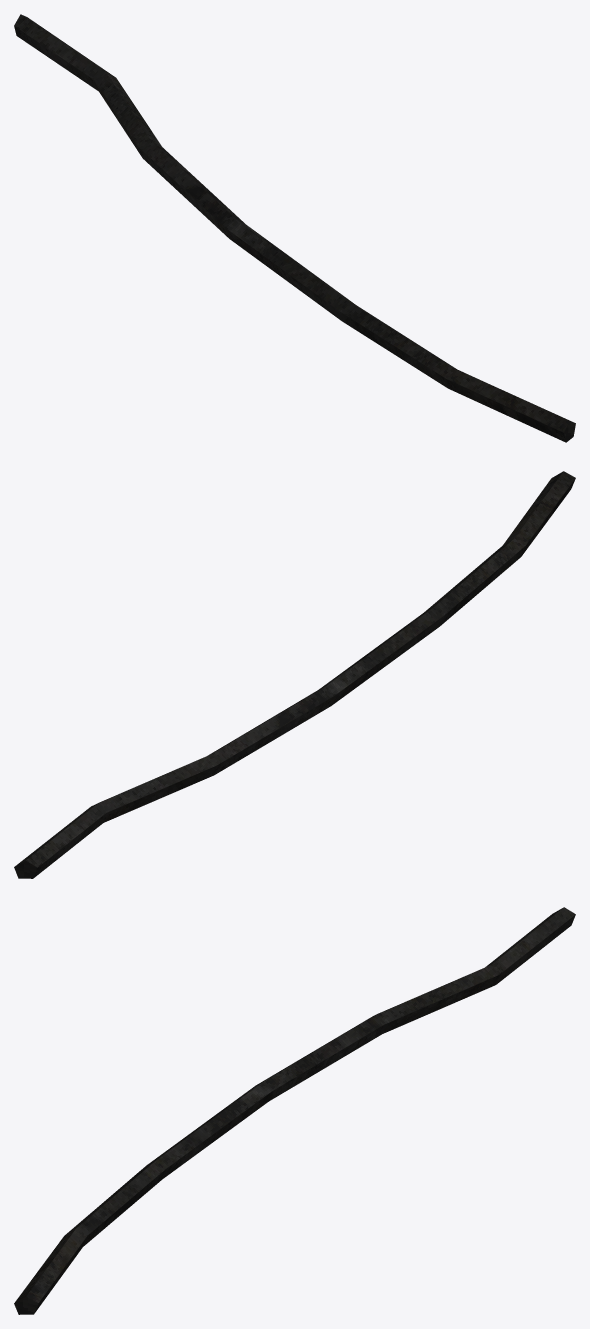
The model's file is Cable_1.glb.
The picture shows the model from 3 angles, top to bottom: view 1: azimuth 30°, elevation 25°; view 2: azimuth 150°, elevation 25°; view 3: azimuth 330°, elevation 25°; orthographic projection. The views are drawn at different scales.
Parts seen in each view (by area): view 1: Cable 1; view 2: Cable 1; view 3: Cable 1.
Part boxes in pixels (left/top/right/bottom): Cable 1: left=14, top=14, right=575, bottom=442; Cable 1: left=14, top=471, right=575, bottom=878; Cable 1: left=14, top=907, right=575, bottom=1314.
Size of the model in its own units: 0.6024 by 0.1517 by 8.13.
1 material, 1 textured.
